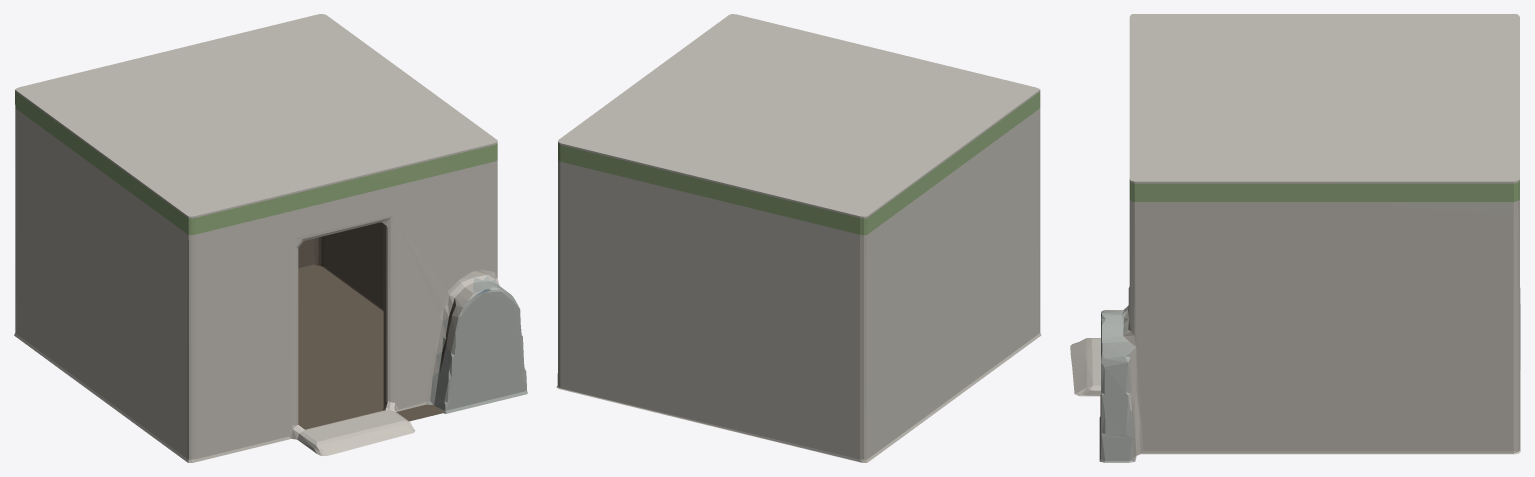
File: etape-1.glb
3 views of the same model, side by side, from view 1: azimuth 30°, elevation 25°; view 2: azimuth 150°, elevation 25°; view 3: azimuth 270°, elevation 25° (orthographic). The views are drawn at different scales.
Parts seen in each view (by area): view 1: geometry_0; view 2: geometry_0; view 3: geometry_0.
Boxes of the visible parts, <box> form: geometry_0: <box>14,14,527,462</box>; geometry_0: <box>556,14,1041,462</box>; geometry_0: <box>1070,14,1520,462</box>.
Size of the model in its own units: 0.7803 by 0.5595 by 0.8384.
